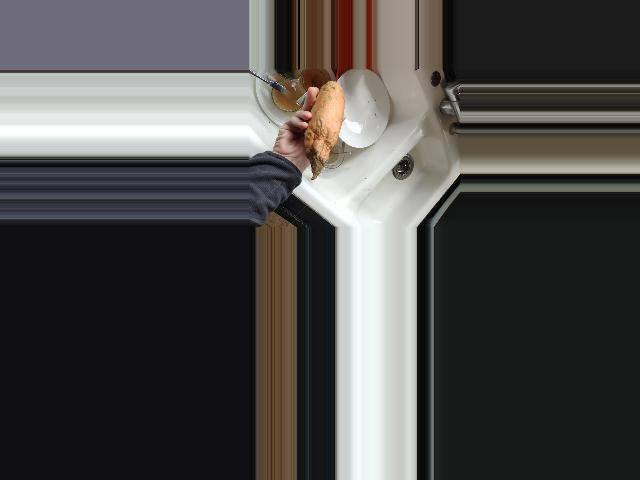sweet_potato: (304, 81, 347, 180)
